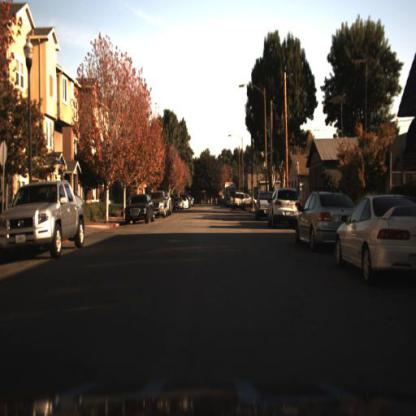car: (335, 194, 416, 285), (1, 181, 87, 262), (295, 187, 339, 255), (263, 186, 299, 227), (123, 190, 156, 230), (253, 187, 269, 221), (155, 188, 169, 219)
